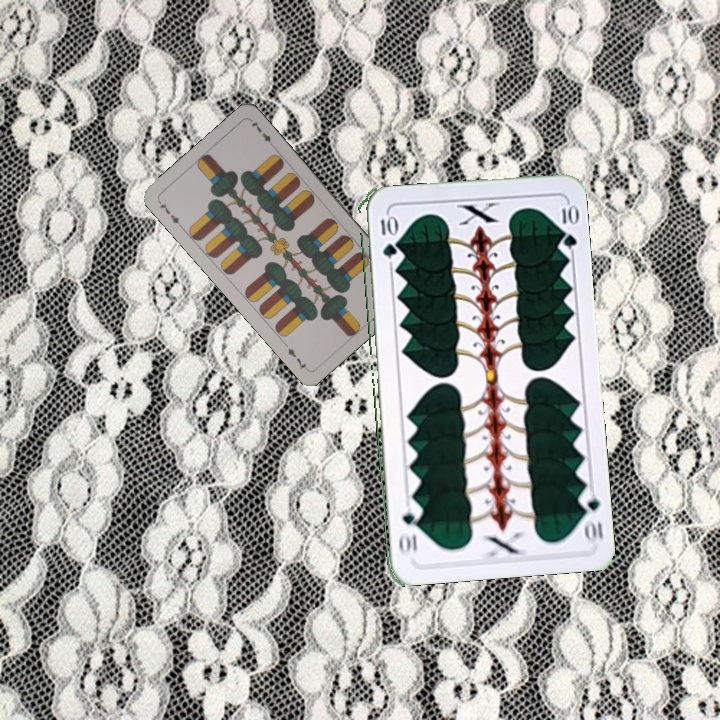E7: (154, 197, 185, 230)
G10: (575, 485, 606, 545), (376, 211, 396, 260)
